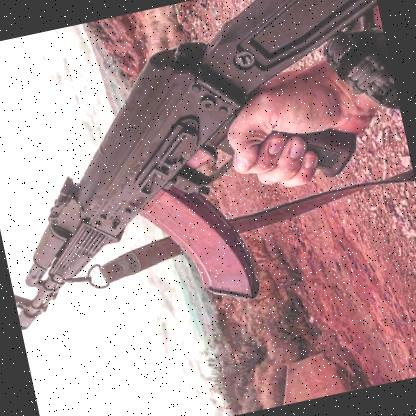rifle: (0, 0, 388, 352)
